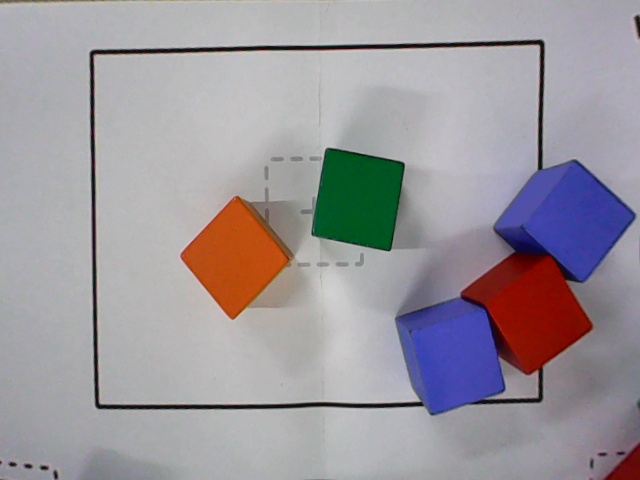upside of small cube: (521, 160, 637, 285), (179, 196, 288, 321), (484, 255, 596, 376), (410, 309, 509, 417), (312, 148, 405, 251)
